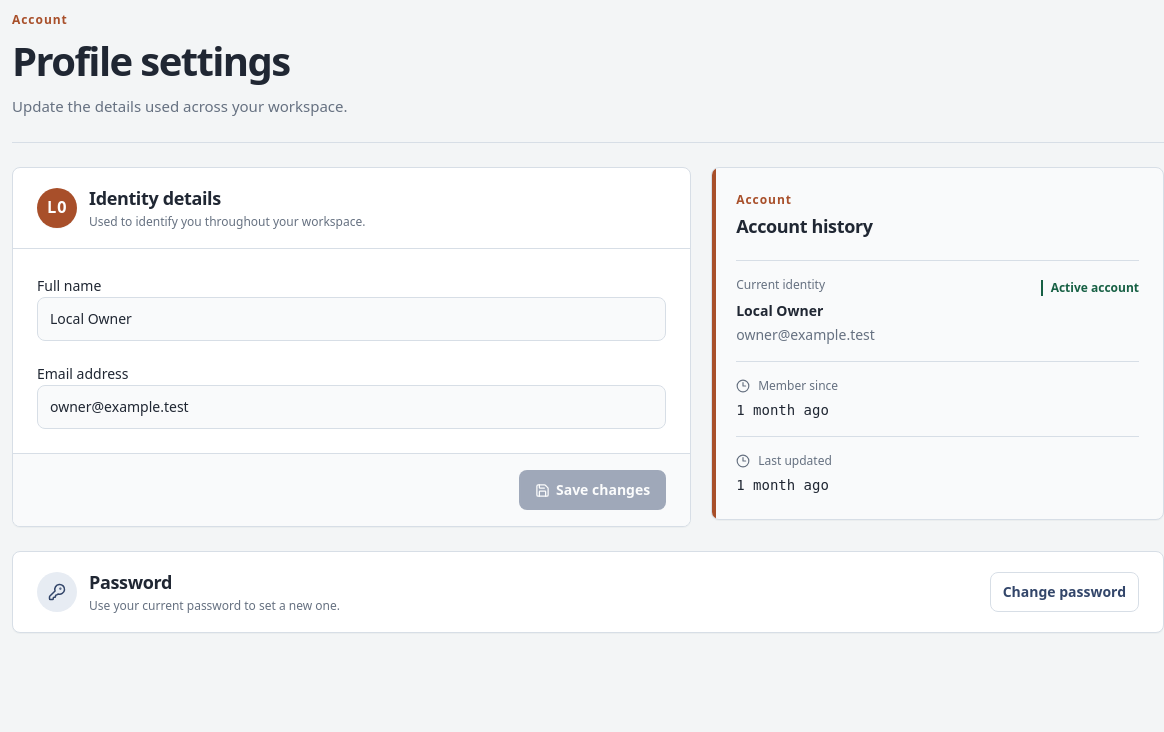
Test: profile settings workflow › shows API field errors
The image size is (1164, 732).
Replace the text in the field labelled "Email address" with "taken@example.test". click: (352, 407)
box: [37, 385, 666, 429]
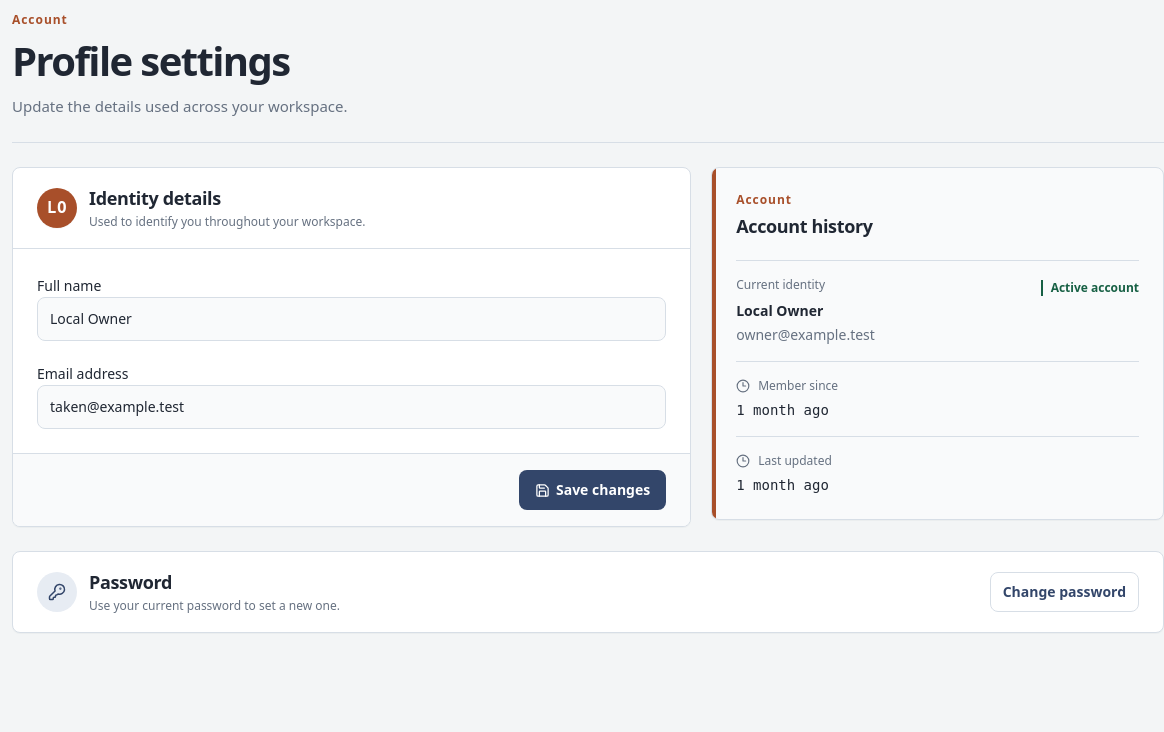
Submit the form named "Profile settings form", box [13, 168, 690, 526]
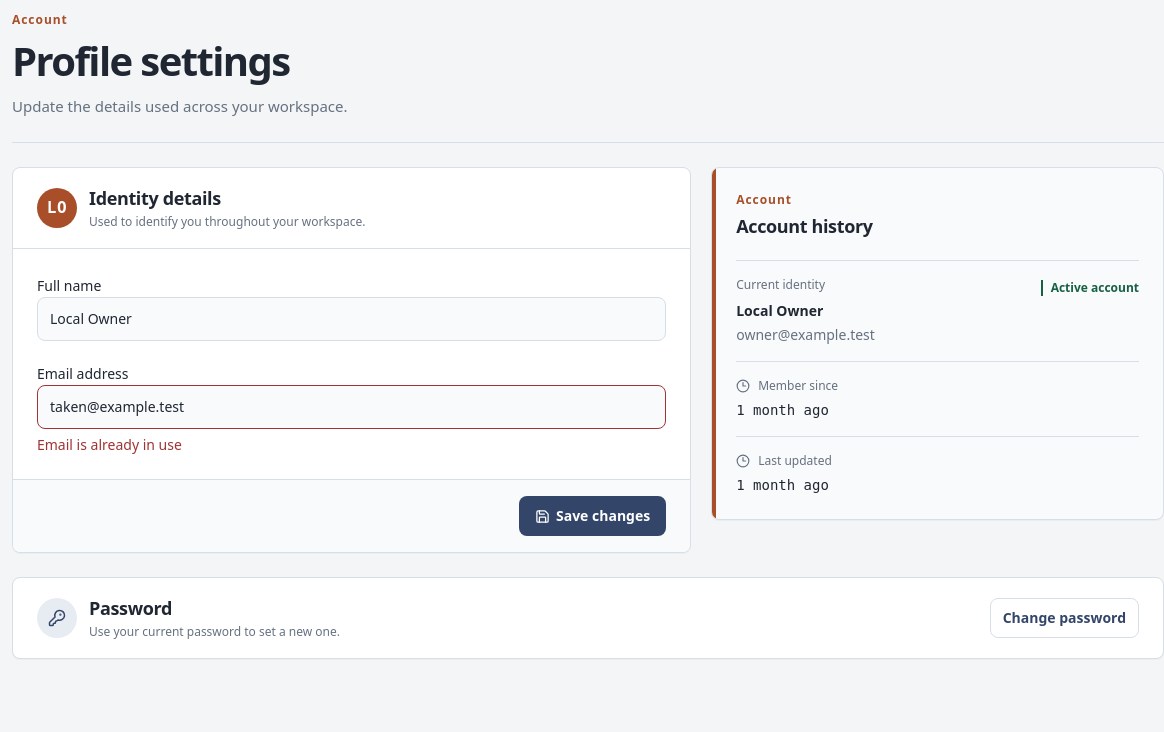
Expected: the text "Email is already in use" is shown, [37, 435, 182, 454]
